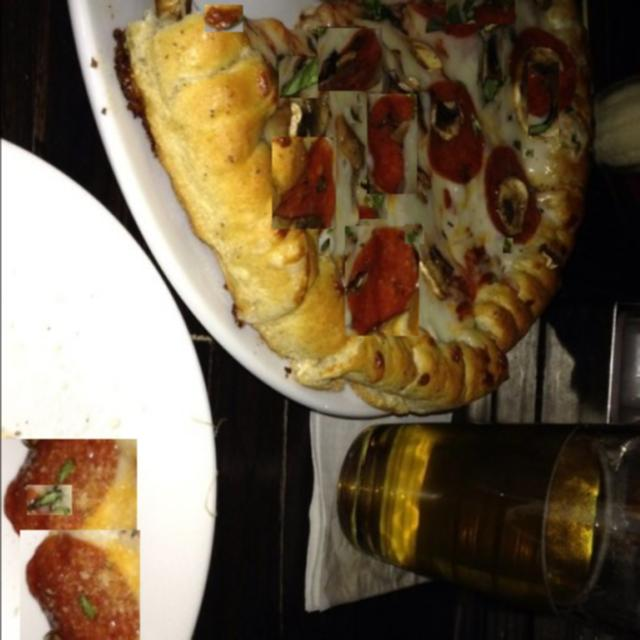basil: (527, 62, 558, 138), (477, 26, 503, 108), (278, 56, 328, 98), (445, 0, 514, 24), (26, 485, 71, 515), (358, 180, 386, 219), (353, 3, 395, 23), (62, 594, 82, 620), (422, 13, 445, 34), (404, 224, 423, 244), (528, 2, 554, 12), (349, 106, 362, 123), (318, 238, 329, 256), (502, 238, 512, 253), (520, 149, 532, 158), (505, 113, 514, 122), (355, 94, 360, 102)
pepperoni: (19, 530, 139, 640), (344, 226, 418, 336), (427, 81, 486, 186), (271, 137, 335, 229), (484, 146, 541, 244), (366, 94, 416, 194), (317, 28, 381, 91), (204, 5, 242, 32)
pizza: (117, 2, 597, 414), (0, 439, 136, 640)
